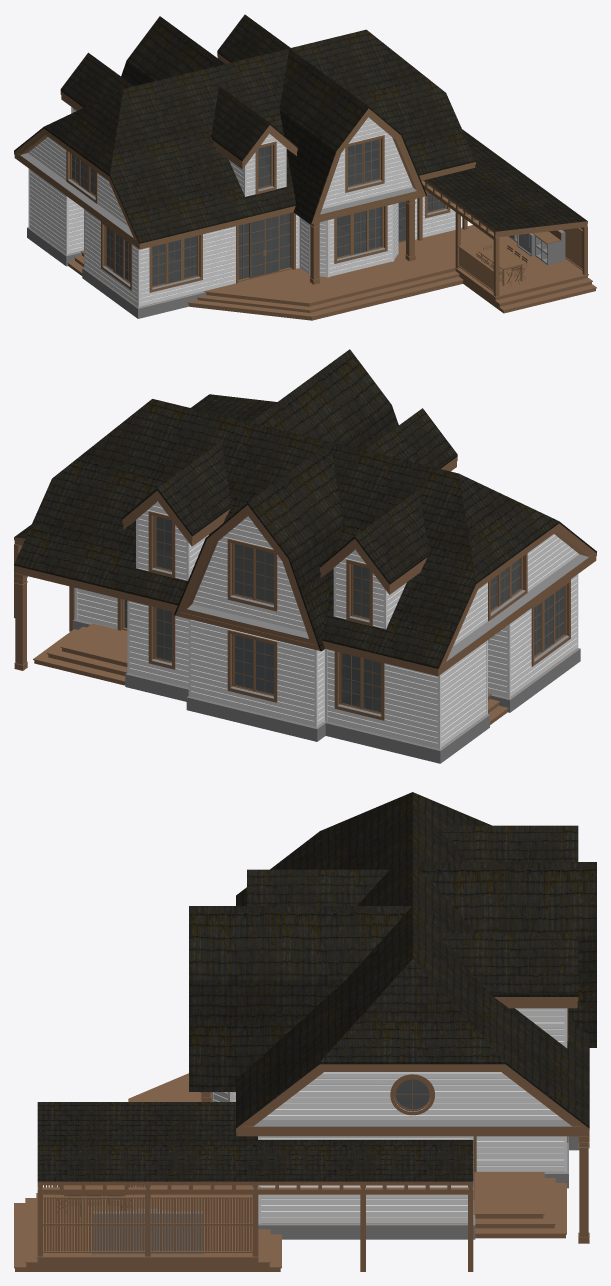
File: house_craftsman.glb
3 renders of one model, top to bottom at view 1: azimuth 30°, elevation 25°; view 2: azimuth 150°, elevation 25°; view 3: azimuth 270°, elevation 25°, orthographic. The views are drawn at different scales.
Bounding box in the file's own units: 14 × 6.35 × 13.28.
Materials: 7 (1 with a texture image).
